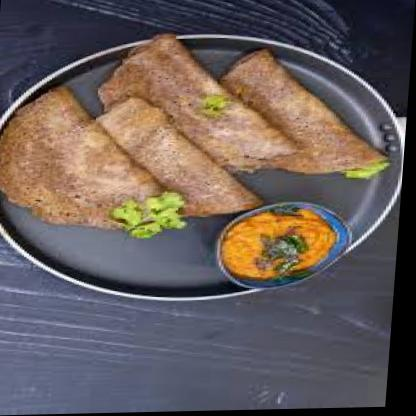dosa: (93, 32, 307, 178), (0, 84, 184, 231), (217, 48, 400, 182), (89, 95, 273, 220)
